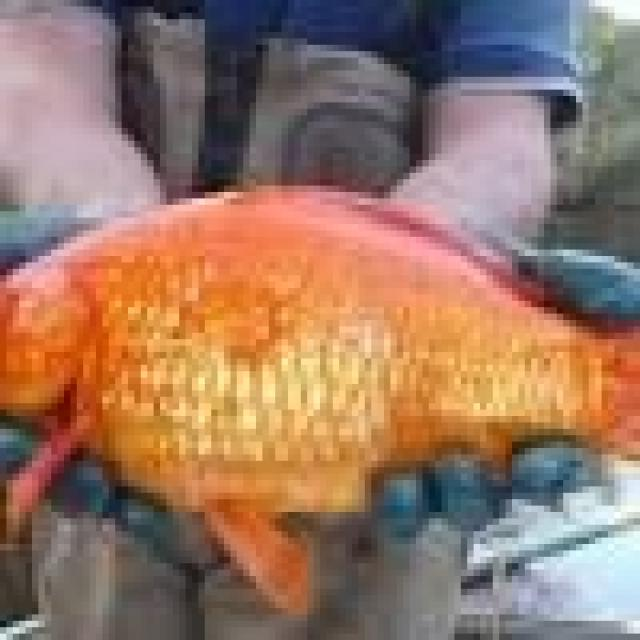Gold-Fish: (0, 137, 640, 536)
